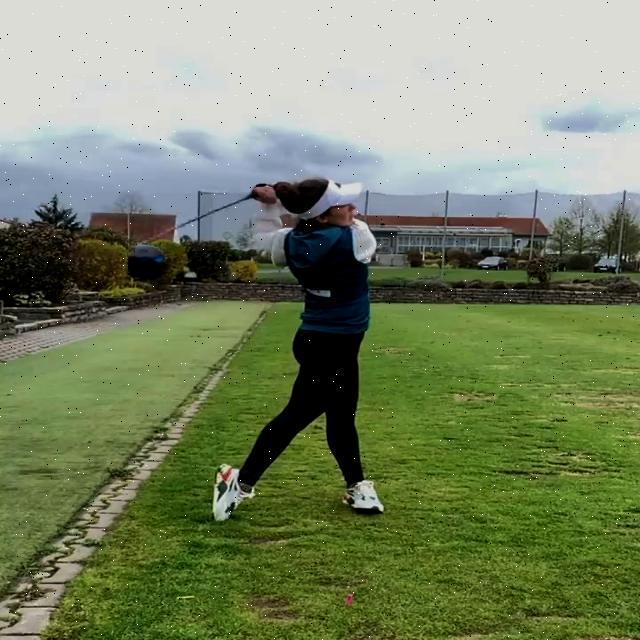ClubHead: (127, 242, 169, 280)
